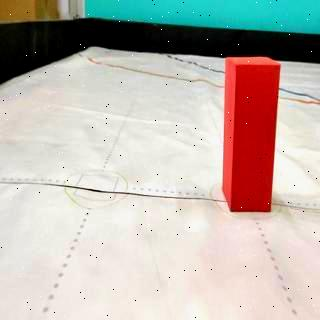redbox: (223, 56, 280, 212)
